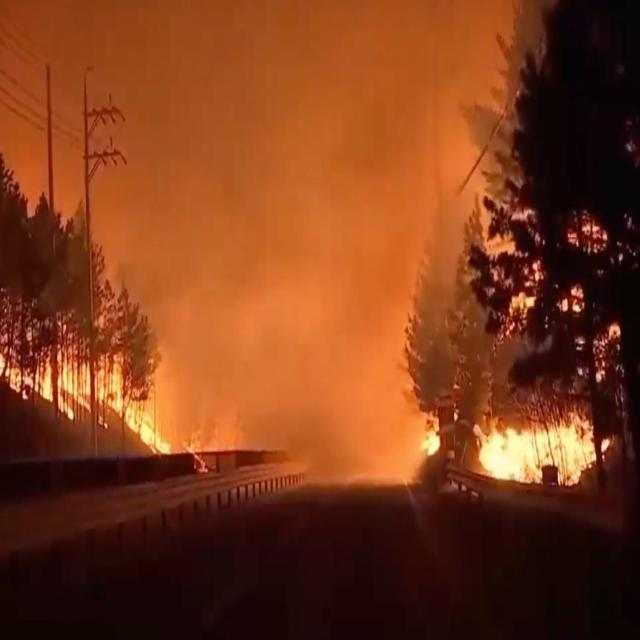Fire: (10, 361, 166, 454), (478, 416, 596, 488), (184, 434, 208, 474), (423, 429, 442, 456)
